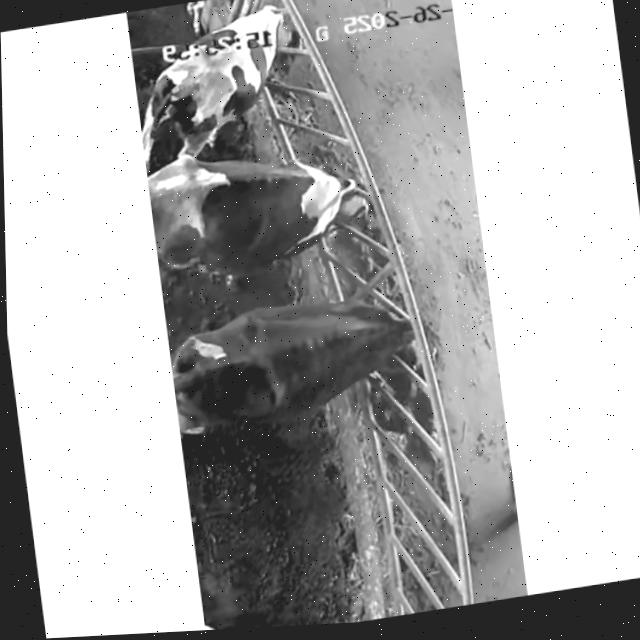eat: (285, 122, 434, 255), (331, 264, 474, 398), (224, 0, 358, 100)
